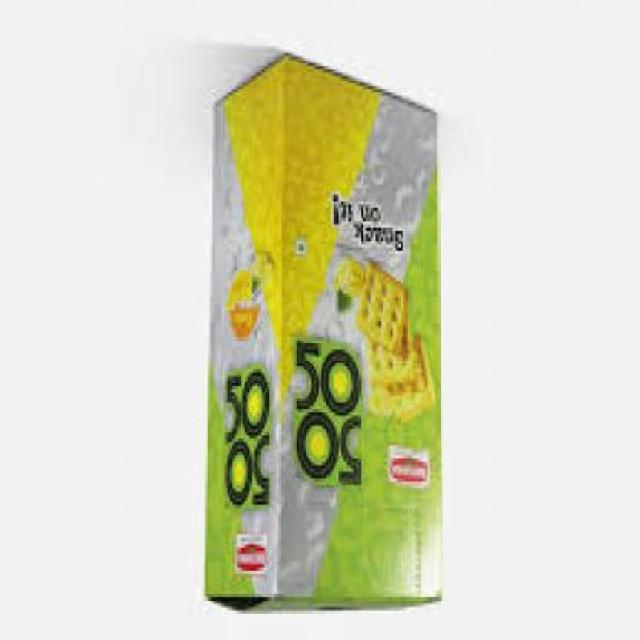CARDBOARD: (208, 53, 444, 613)
